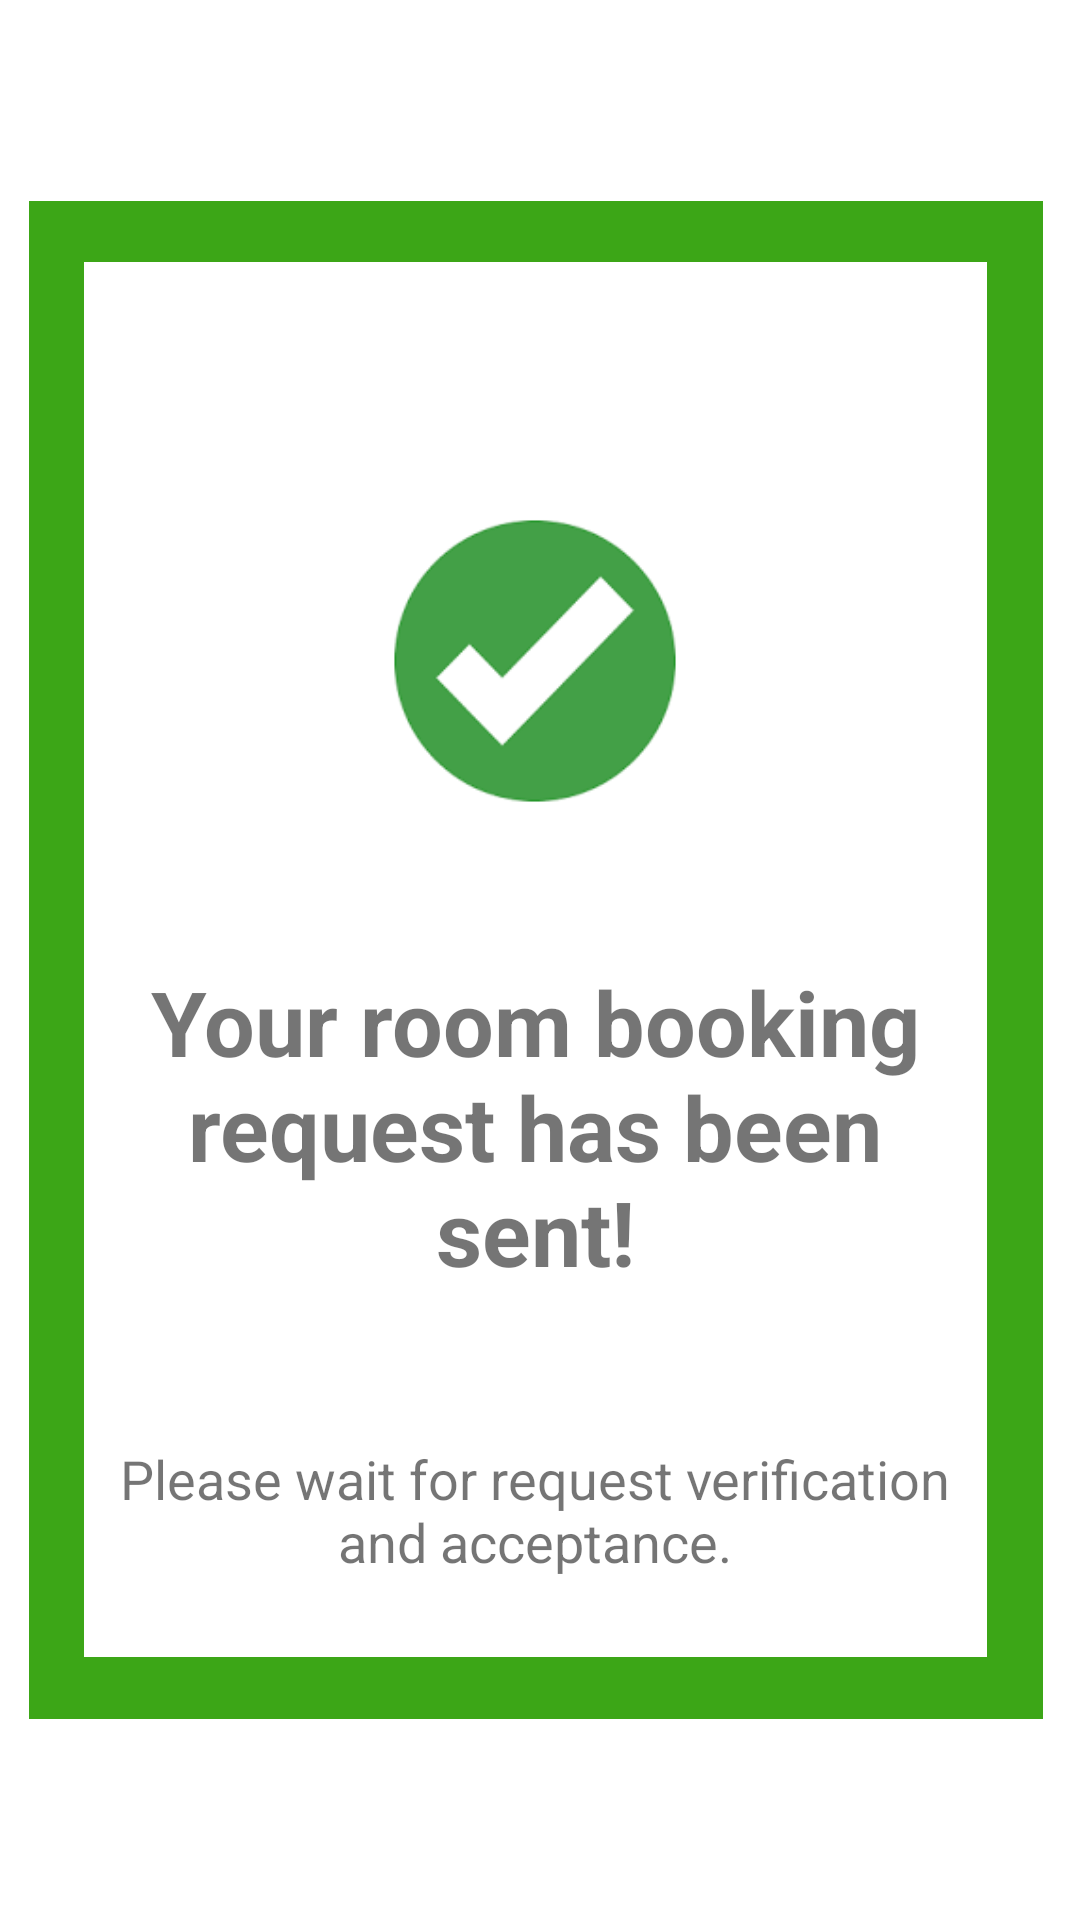

Icon bounding boxes for this 1080x1920 phone screenshot, format bbox=[x1, y1, x2, y2]:
success: bbox=[394, 520, 676, 802]
